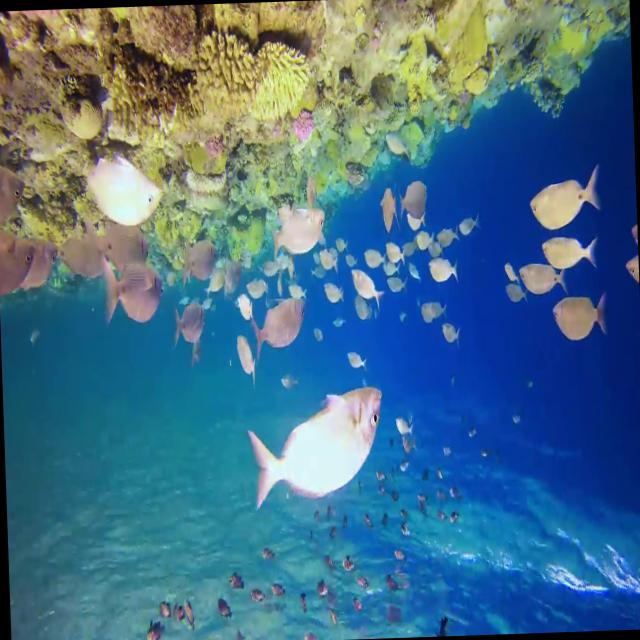fish: (238, 376, 392, 520), (518, 157, 606, 240), (73, 158, 169, 234), (263, 186, 334, 264), (99, 256, 168, 332), (548, 286, 613, 349), (251, 293, 311, 353), (539, 226, 601, 280), (172, 222, 222, 288), (516, 247, 572, 302), (169, 302, 213, 365), (18, 233, 62, 294), (0, 155, 30, 244), (0, 233, 38, 299), (347, 254, 388, 312), (56, 234, 102, 284), (231, 330, 259, 386), (401, 177, 432, 223), (341, 345, 374, 384), (317, 274, 349, 314), (374, 188, 401, 234), (498, 278, 532, 314), (228, 291, 258, 330), (386, 412, 420, 445), (458, 208, 486, 245), (422, 292, 453, 324), (440, 324, 470, 356), (428, 256, 462, 284), (616, 255, 639, 293), (498, 262, 518, 284)
